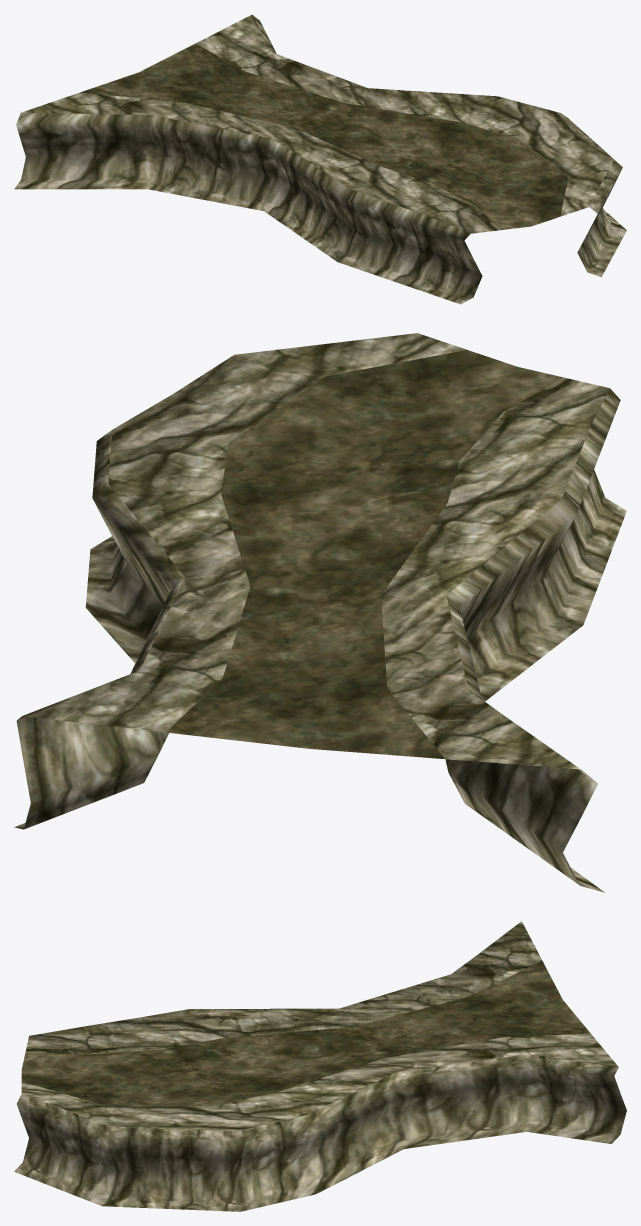
The model's file is CB_NEWPLAYSURFACE_CB_PLAYSURFACE159.fbx.
3 views of the same model, one above another, from view 1: azimuth 30°, elevation 25°; view 2: azimuth 150°, elevation 25°; view 3: azimuth 270°, elevation 25° (orthographic). The views are drawn at different scales.
Visible parts, largest first — view 1: CB_NEWPLAYSURFACE_CB_PLAYSURFACE159; view 2: CB_NEWPLAYSURFACE_CB_PLAYSURFACE159; view 3: CB_NEWPLAYSURFACE_CB_PLAYSURFACE159.
Boxes of the visible parts, x1,y1,x2,y2 form: CB_NEWPLAYSURFACE_CB_PLAYSURFACE159: (14,14,626,304); CB_NEWPLAYSURFACE_CB_PLAYSURFACE159: (14,333,626,892); CB_NEWPLAYSURFACE_CB_PLAYSURFACE159: (14,921,626,1211).
Bounding box in the file's own units: 205249 × 33000 × 241400.
Materials: 3 (3 with a texture image).
